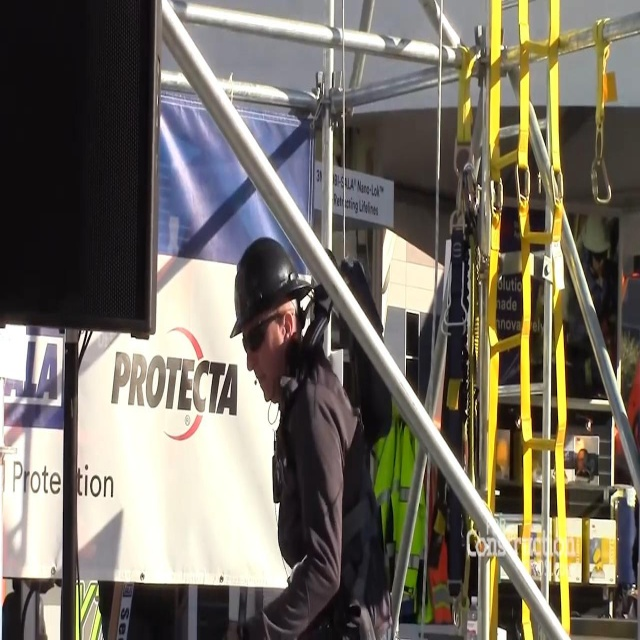Arnes_seguridad: (269, 272, 397, 640)
